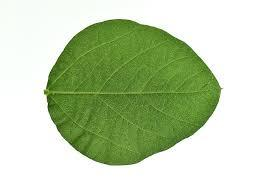healthy_leaf: (35, 23, 230, 162)
